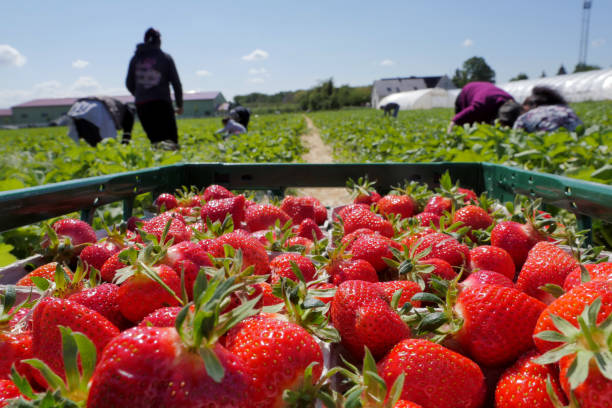Fresa: (81, 319, 252, 408), (532, 275, 612, 408), (26, 290, 127, 395), (230, 308, 330, 408), (442, 277, 557, 358), (378, 335, 492, 408), (332, 274, 418, 359), (114, 262, 192, 319), (269, 251, 325, 292), (466, 242, 519, 285), (195, 193, 252, 232)
